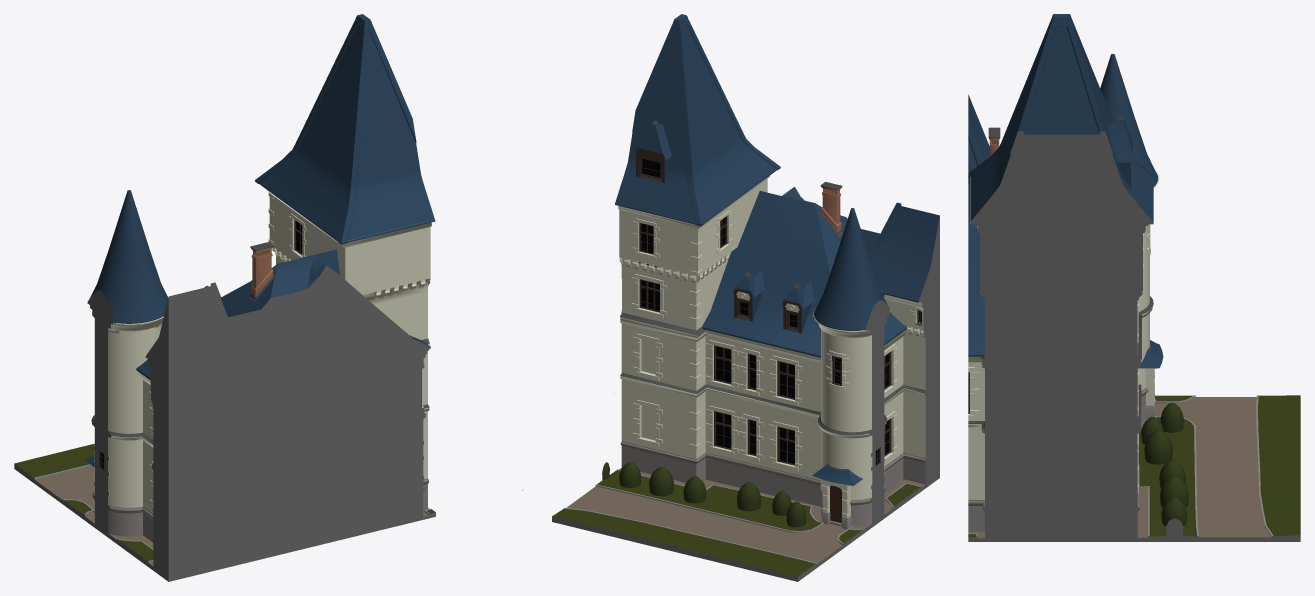
The picture shows the model from 3 angles, left to right: view 1: azimuth 30°, elevation 25°; view 2: azimuth 150°, elevation 25°; view 3: azimuth 270°, elevation 25°; orthographic projection. The views are drawn at different scales.
Visible parts, largest first — view 1: Plane.007; view 2: Plane.007; view 3: Plane.007.
Part boxes in pixels (x1,y1,x2,y2): Plane.007: (14, 14, 522, 581); Plane.007: (552, 14, 939, 581); Plane.007: (968, 14, 1300, 541).
Bounding box in the file's own units: 5.31 × 6.79 × 4.
